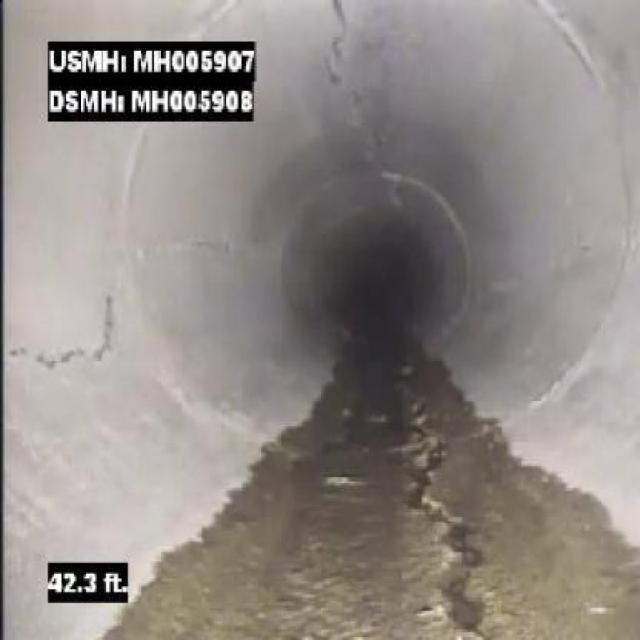Buckling: (425, 512, 492, 632), (409, 448, 448, 518)
Crack: (9, 324, 125, 374), (317, 0, 361, 91), (178, 229, 236, 262)
